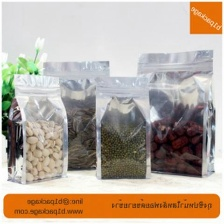snack: (132, 45, 221, 182), (37, 54, 116, 176), (2, 70, 72, 187), (88, 72, 153, 183)
